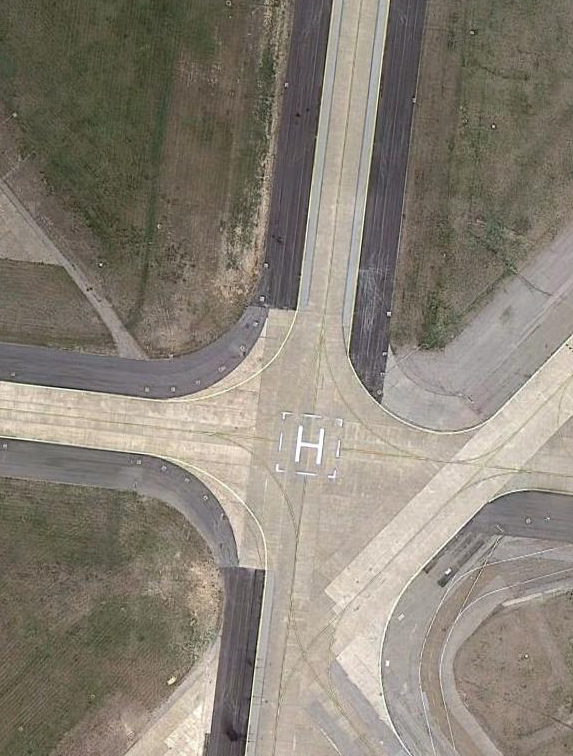heliport: (293, 420, 326, 467)
